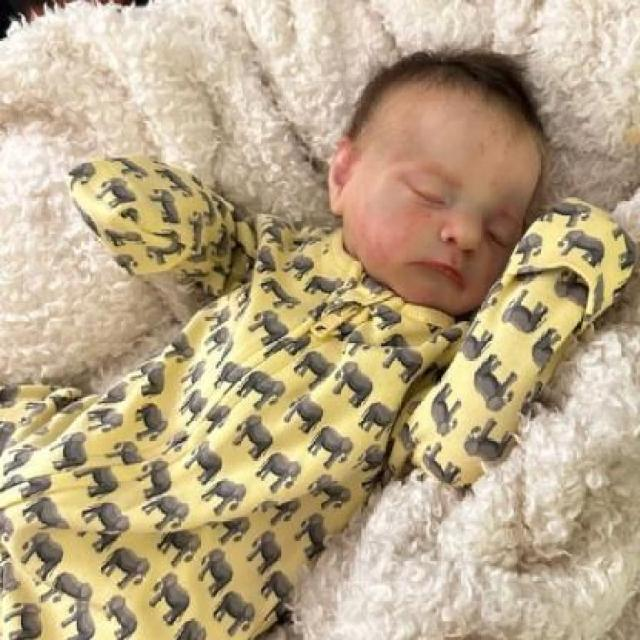baby: (4, 51, 634, 640)
